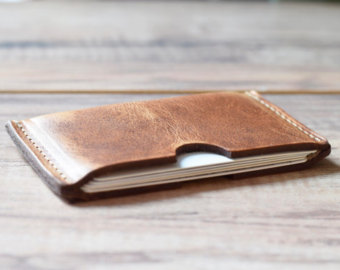monedero: (2, 89, 337, 206)
